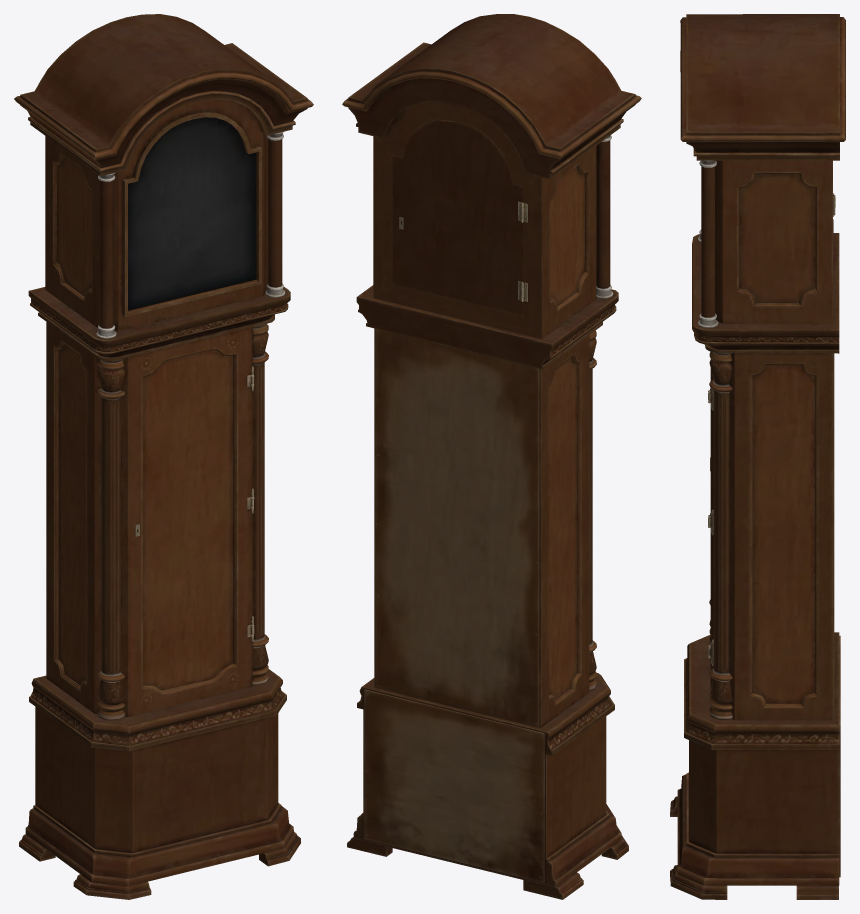
File: vintage_grandfather_clock_01.glb
The picture shows the model from 3 angles, left to right: view 1: azimuth 30°, elevation 25°; view 2: azimuth 150°, elevation 25°; view 3: azimuth 270°, elevation 25°; orthographic projection. The views are drawn at different scales.
Visible parts, largest first — view 1: vintage_grandfather_clock_01_Body; view 2: vintage_grandfather_clock_01_Body; view 3: vintage_grandfather_clock_01_Body.
Part boxes in pixels (<box>): vintage_grandfather_clock_01_Body: <box>14,14,313,899</box>; vintage_grandfather_clock_01_Body: <box>342,14,641,899</box>; vintage_grandfather_clock_01_Body: <box>670,14,845,899</box>.
Bounding box in the file's own units: 0.6255 × 2.19 × 0.4265.
Materials: 2 (2 with a texture image).
